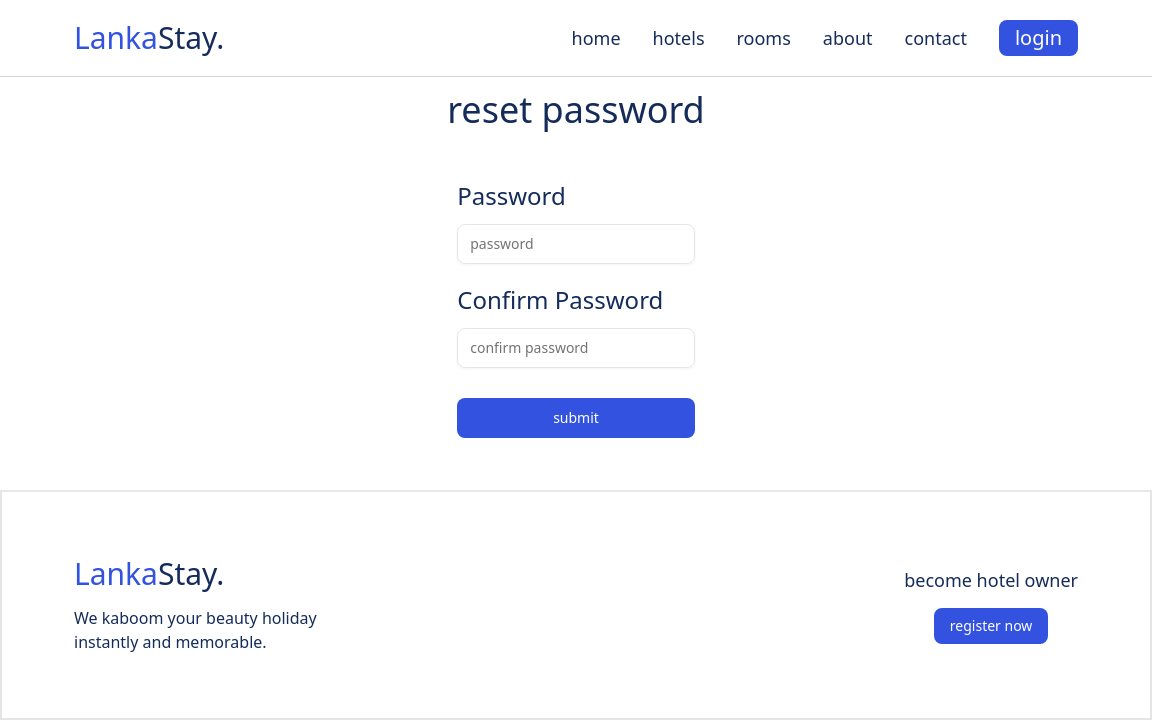
Test: reset password page › should show an error for an expired token
The width and height of the screenshot is (1152, 720).
In the password field labelled "password": (576, 244) [457, 224, 695, 264], type "password"
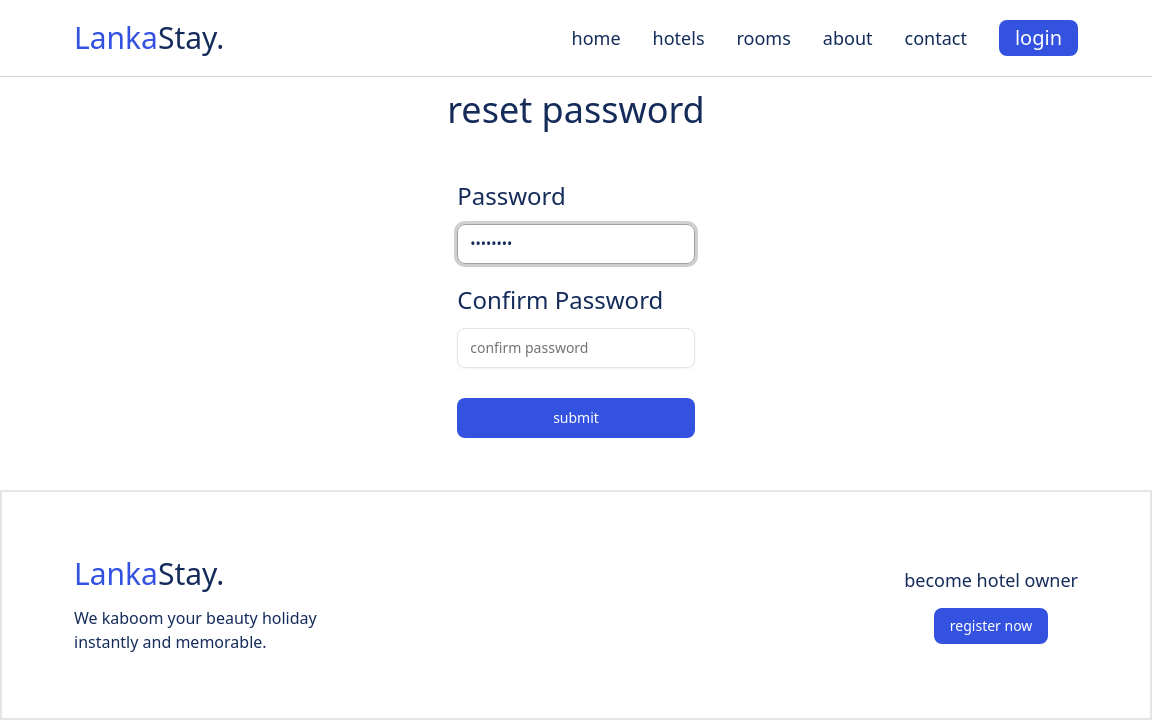
In the password field labelled "confirm password": (576, 348) [457, 328, 695, 368], type "password"
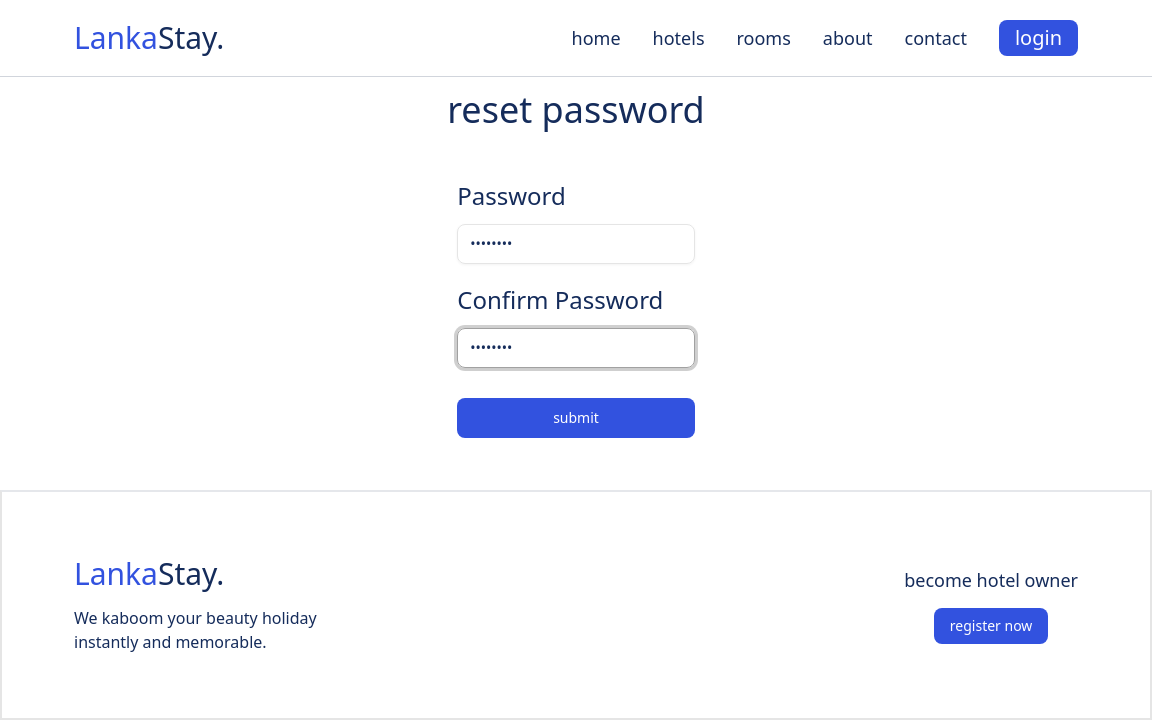
Click the button "submit": (576, 418) [457, 398, 695, 438]
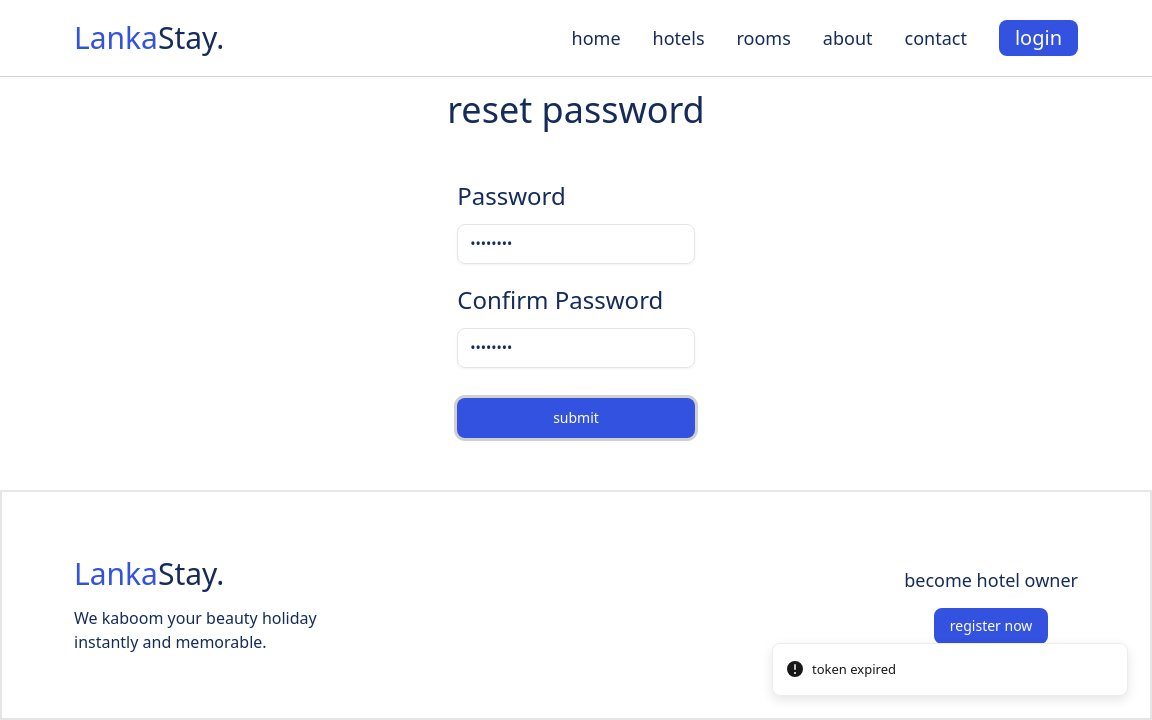
Result: the text "token expired" is shown at [812, 660, 896, 679]
